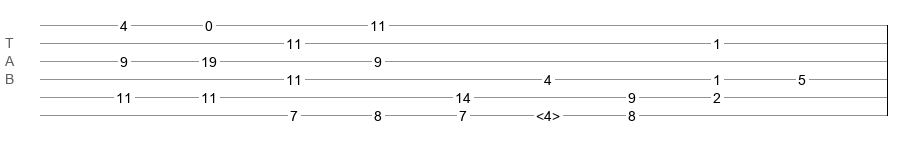0: (205, 18, 213, 28)
1: (713, 36, 721, 46), (713, 72, 721, 82)
11: (116, 90, 132, 100), (201, 90, 217, 100), (286, 36, 302, 46), (286, 72, 302, 82), (370, 18, 386, 28)
14: (455, 90, 471, 100)
19: (201, 54, 217, 64)
2: (713, 90, 721, 100)
4: (120, 18, 128, 28), (544, 72, 552, 82)
5: (798, 72, 806, 82)
7: (290, 108, 298, 118), (459, 108, 467, 118)
8: (374, 108, 382, 118), (628, 108, 636, 118)
9: (120, 54, 128, 64), (374, 54, 382, 64), (628, 90, 636, 100)
harmonic: (536, 108, 560, 118)
